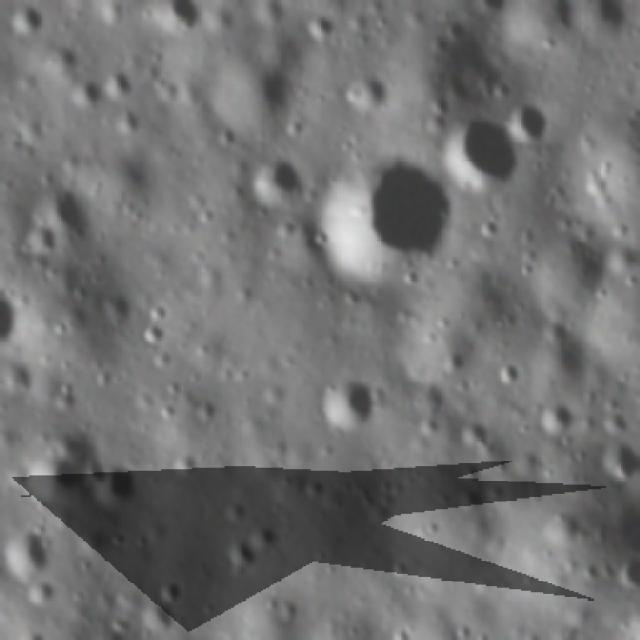crater: (310, 151, 455, 287), (522, 232, 606, 332), (523, 320, 611, 411), (215, 59, 303, 132), (439, 112, 518, 192), (29, 430, 94, 504), (314, 370, 377, 436), (0, 521, 55, 581), (246, 154, 305, 208), (38, 184, 93, 239), (337, 67, 395, 115), (588, 433, 640, 484), (99, 461, 138, 513), (154, 1, 212, 32), (504, 99, 542, 143), (9, 2, 53, 40), (21, 220, 62, 258), (100, 66, 143, 102), (218, 536, 257, 575), (536, 400, 576, 438), (22, 575, 59, 610), (253, 516, 284, 553), (74, 72, 103, 111), (139, 321, 170, 354), (52, 44, 79, 81), (114, 104, 141, 138), (154, 580, 186, 608), (479, 212, 503, 242)
